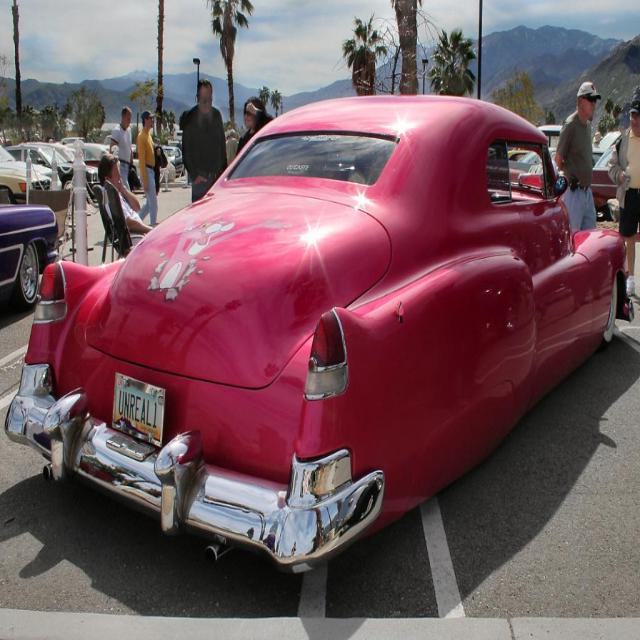car: (13, 88, 628, 567)
